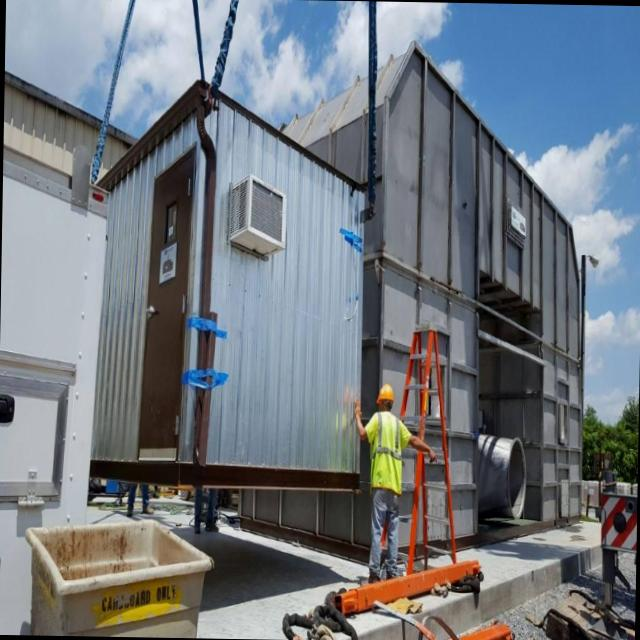helmet: (372, 375, 396, 413)
vest: (361, 410, 411, 505)
